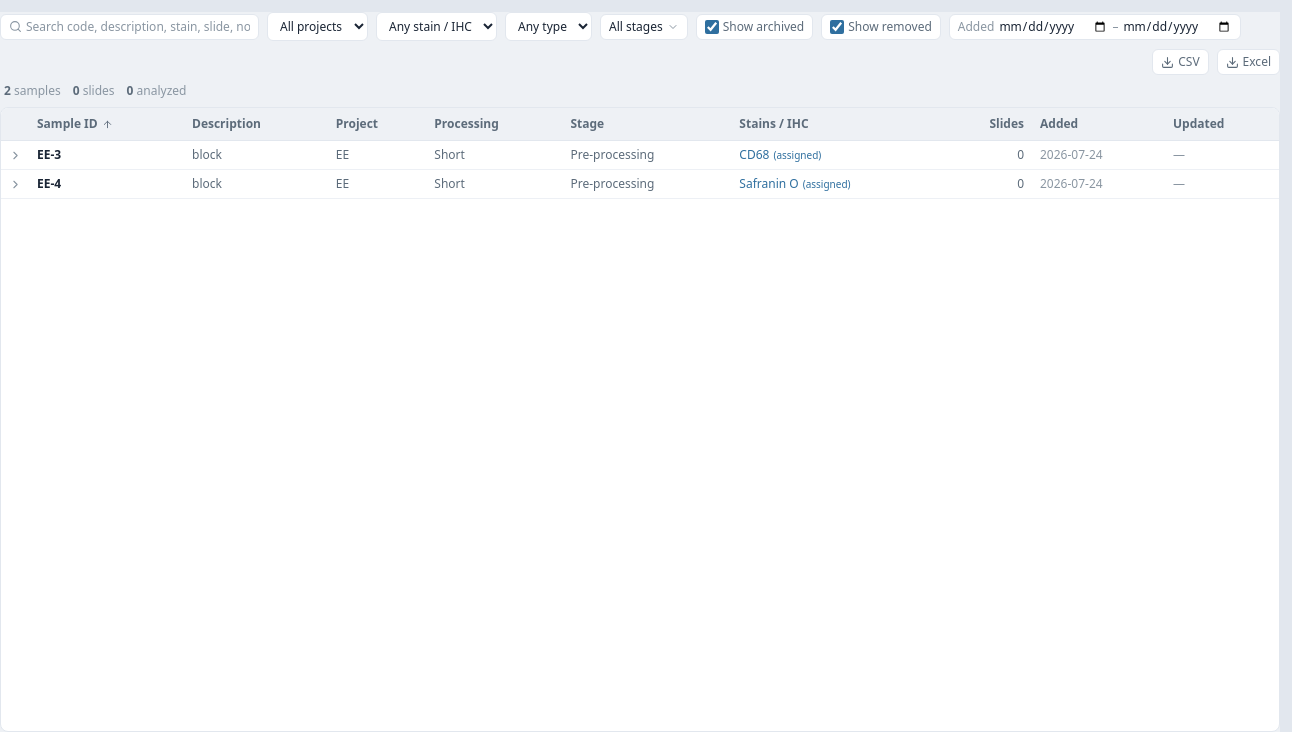
Test: LogsView — the Assay Type filter › finds a block whose only IHC is assigned but not yet cut
Step 1. Select "IHC" in the 2nd dropdown showing "Any type" → (548, 26), box [505,12,592,41]
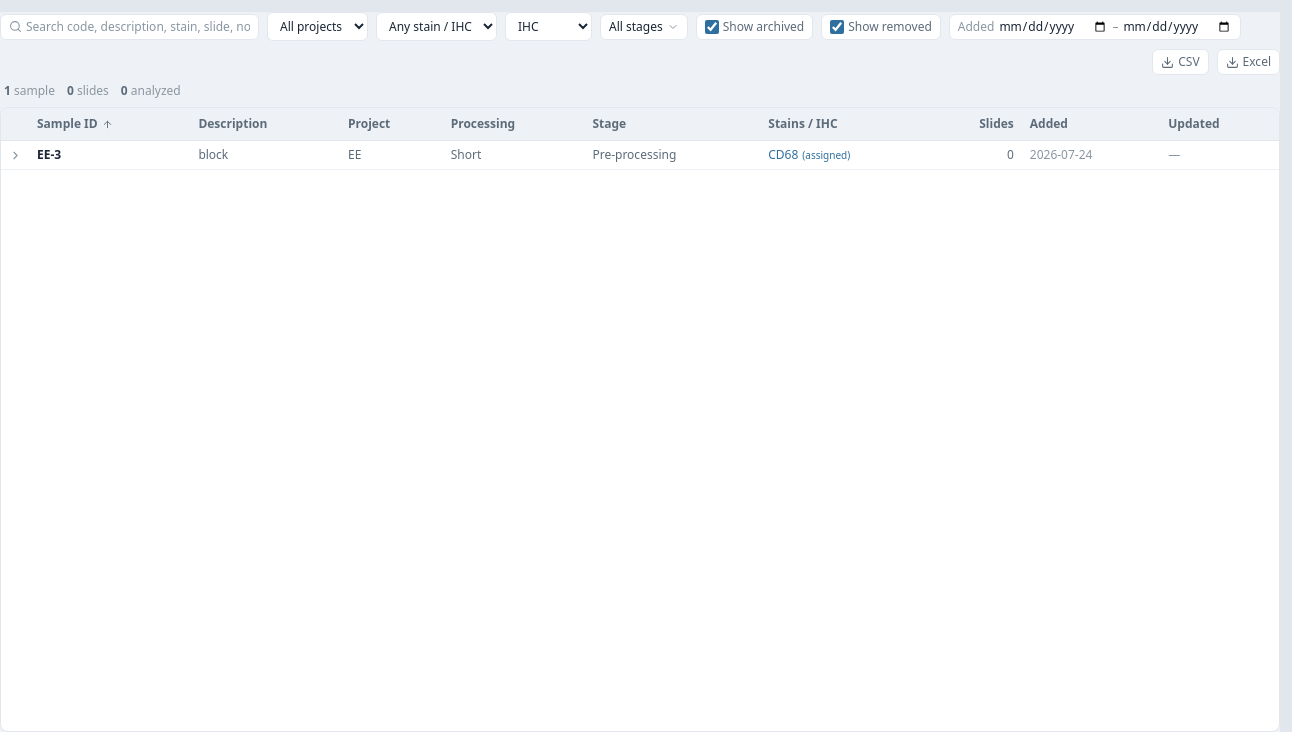
Expected: the text "EE-3" is shown, [37,147,61,163]
Expected: the text "EE-4" is gone
